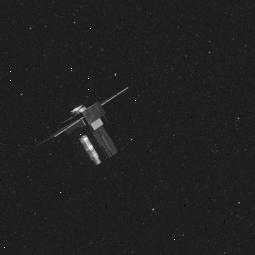soho: (34, 84, 134, 168)
